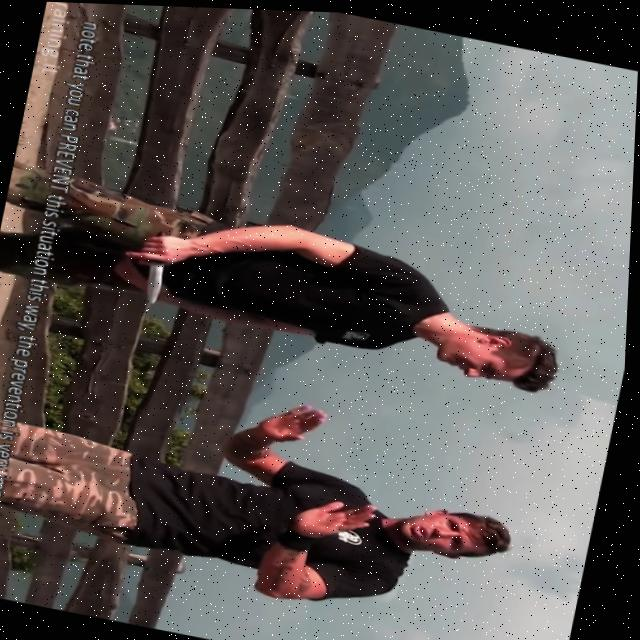knife: (144, 258, 175, 306)
